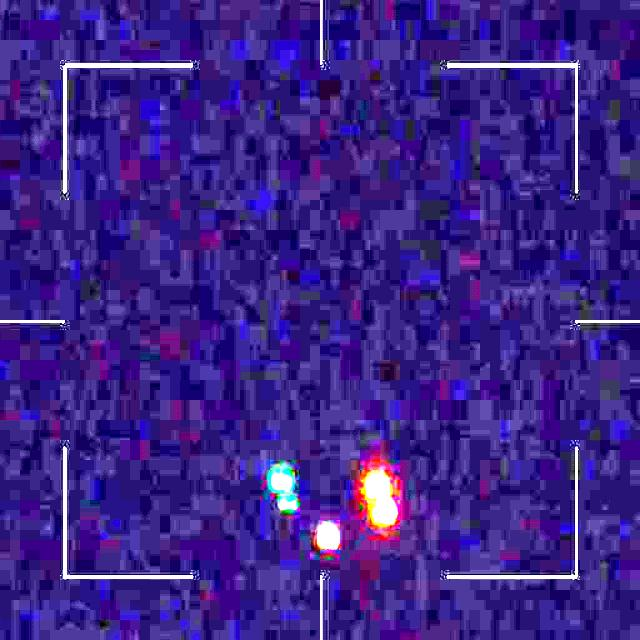bird: (269, 466, 395, 554)
